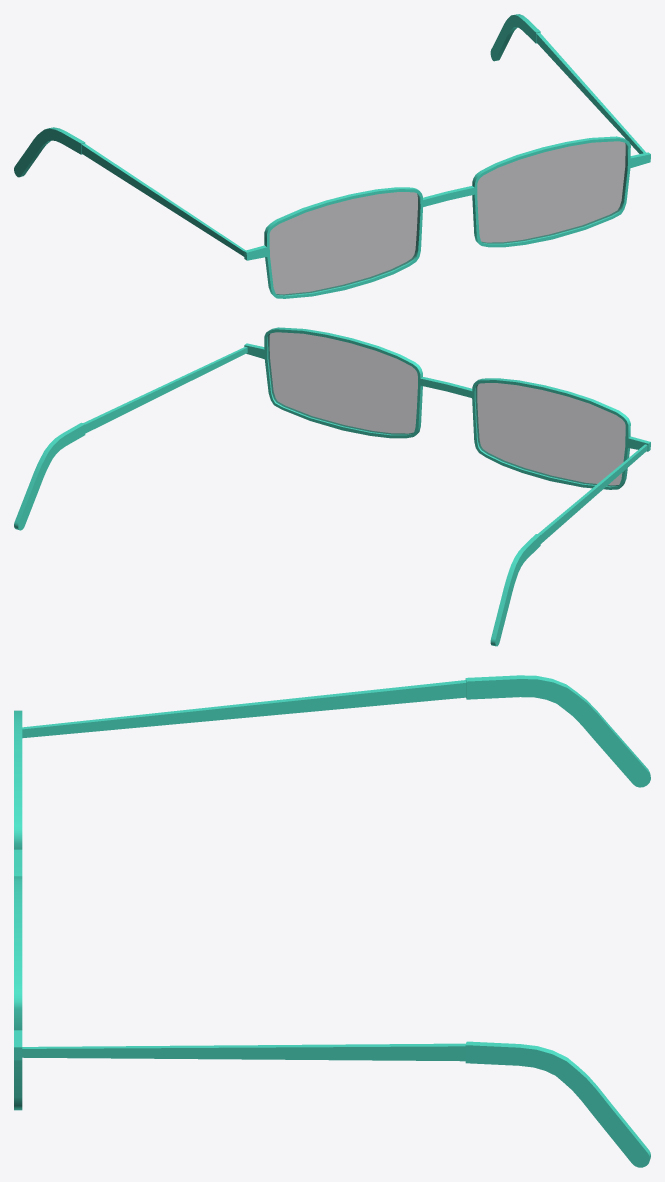
3 views of the same model, one above another, from view 1: azimuth 30°, elevation 25°; view 2: azimuth 150°, elevation 25°; view 3: azimuth 270°, elevation 25° (orthographic). The views are drawn at different scales.
Visible parts, largest first — view 1: Lens, Material.030; view 2: Lens, Material.030; view 3: Material.030.
Part boxes in pixels (left/top/right/bottom): Lens: left=269, top=141, right=627, bottom=295; Material.030: left=14, top=14, right=650, bottom=298; Lens: left=268, top=332, right=625, bottom=486; Material.030: left=14, top=327, right=650, bottom=646; Material.030: left=14, top=675, right=650, bottom=1167.
Bounding box in the file's own units: 2.11 × 0.3851 × 1.47.
